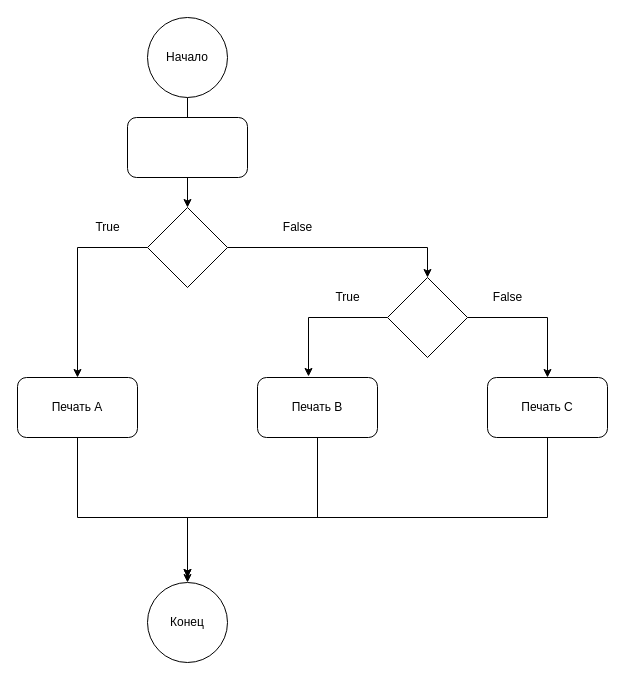
The diagram is 625 pixels wide and 680 high, and some of its shapes have lost their labels. Each missing label, with the centre of its shape:
"A>B A>C" goes at point 187,247.
"B>C" goes at point 427,317.
"Ввод A, B,C" goes at point 187,147.
